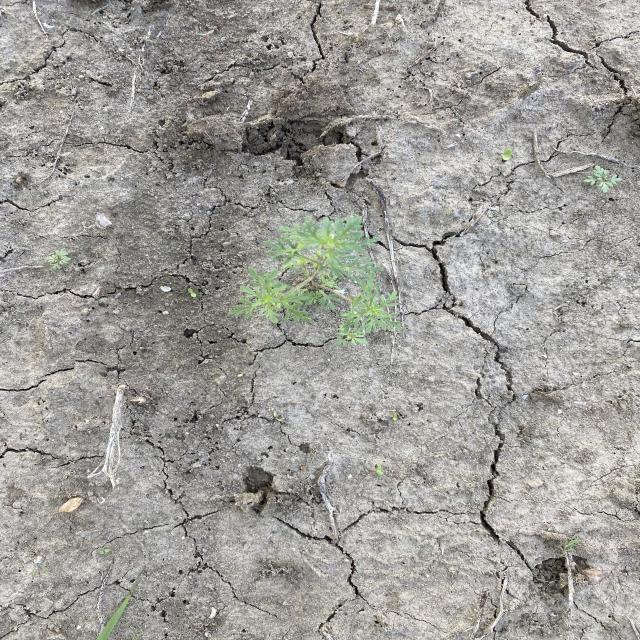Ragweed: (227, 212, 406, 348), (583, 163, 624, 194), (42, 248, 73, 271)
